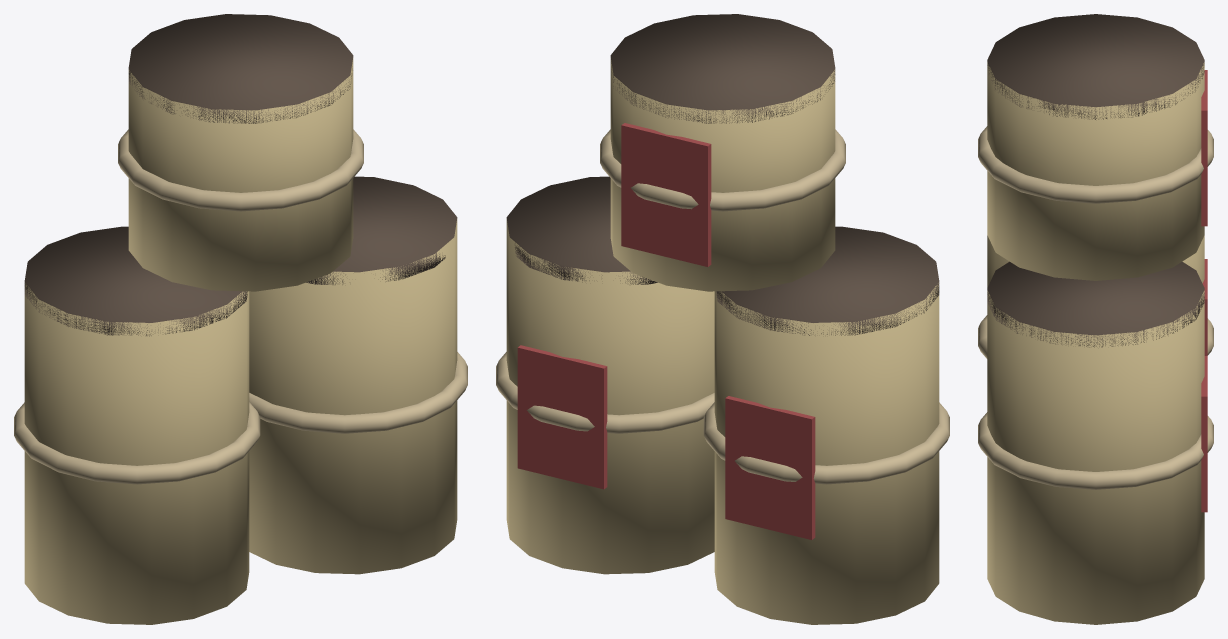
The model's file is prop_komodaru.glb.
The picture shows the model from 3 angles, left to right: view 1: azimuth 30°, elevation 25°; view 2: azimuth 150°, elevation 25°; view 3: azimuth 270°, elevation 25°; orthographic projection. The views are drawn at different scales.
Parts seen in each view (by area): view 1: komodaru; view 2: komodaru; view 3: komodaru.
Boxes of the visible parts, left/top/right/bottom form: komodaru: left=14, top=14, right=467, bottom=624; komodaru: left=496, top=14, right=949, bottom=624; komodaru: left=978, top=14, right=1213, bottom=624.
Size of the model in its own units: 1.47 by 1.62 by 0.7386.
